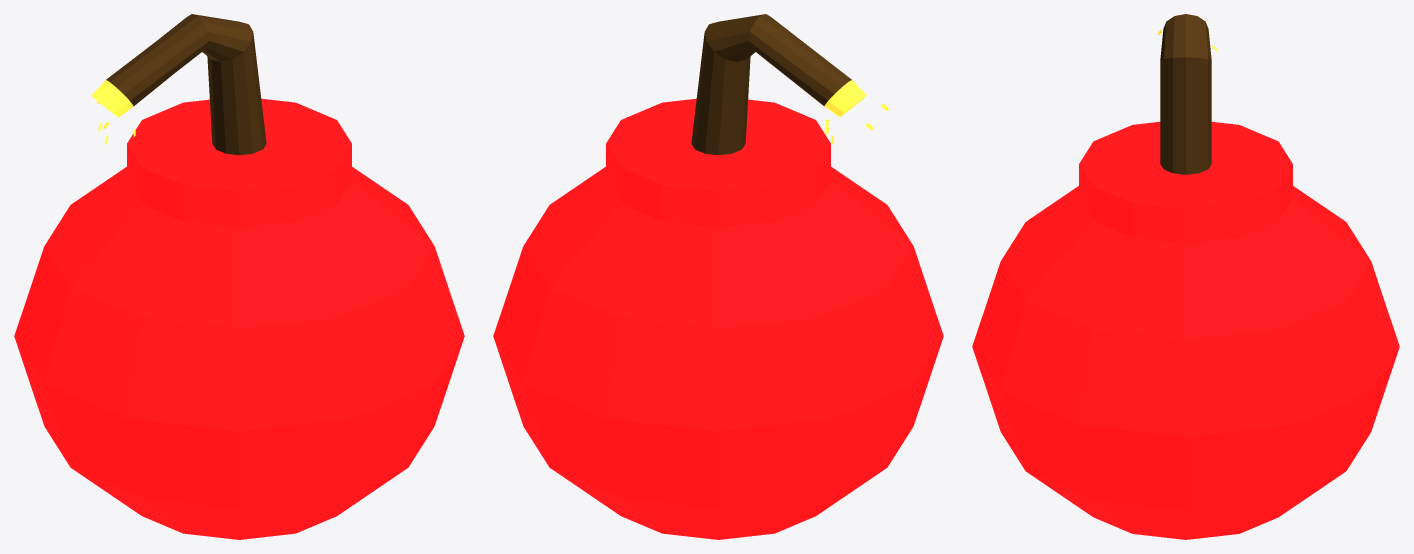
Rendered from bomb.glb.
3 views of the same model, side by side, from view 1: azimuth 30°, elevation 25°; view 2: azimuth 150°, elevation 25°; view 3: azimuth 270°, elevation 25° (orthographic). The views are drawn at different scales.
Visible parts, largest first — view 1: Sphere; view 2: Sphere; view 3: Sphere.
Boxes of the visible parts, x1=… form: Sphere: x1=14, y1=14, x2=464, y2=539; Sphere: x1=493, y1=14, x2=943, y2=539; Sphere: x1=972, y1=14, x2=1399, y2=539.
Size of the model in its own units: 0.8 by 1 by 0.8.
Materials: 3 (2 with a texture image).
